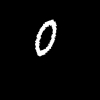chain: (35, 20, 55, 55)
